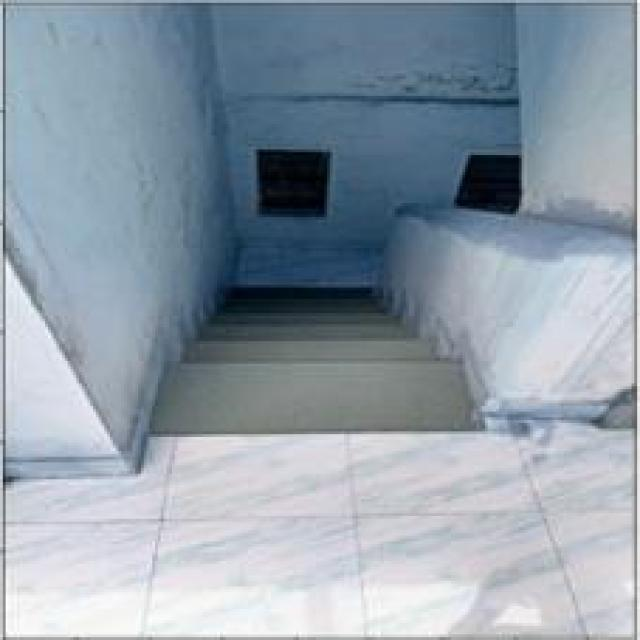downstair: (162, 249, 447, 373)
